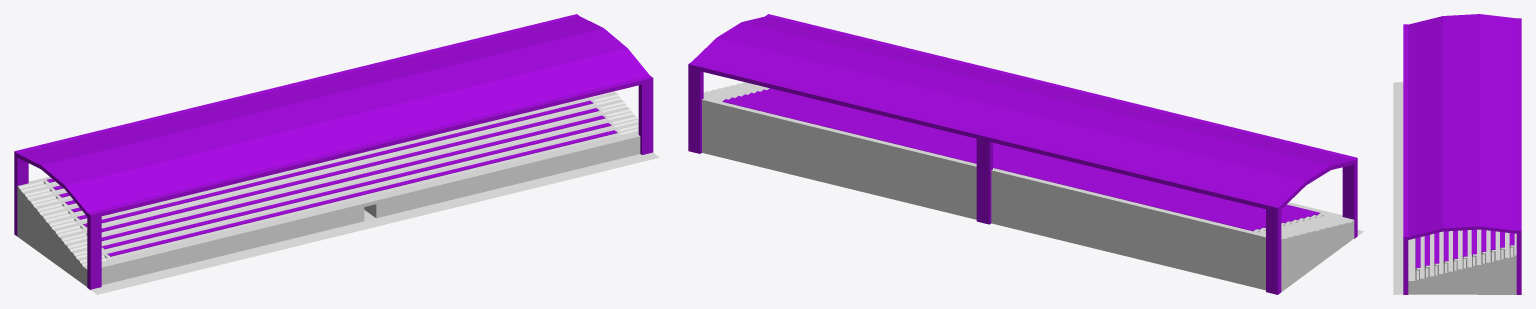
Rendered from Sivu.fbx.
3 views of the same model, side by side, from view 1: azimuth 30°, elevation 25°; view 2: azimuth 150°, elevation 25°; view 3: azimuth 270°, elevation 25° (orthographic). The views are drawn at different scales.
Parts seen in each view (by area): view 1: Sivu; view 2: Sivu; view 3: Sivu.
Part boxes in pixels (<box>): Sivu: <box>14,14,659,294</box>; Sivu: <box>688,14,1364,294</box>; Sivu: <box>1393,14,1521,294</box>.
Bounding box in the file's own units: 100 × 15.05 × 25.5.
